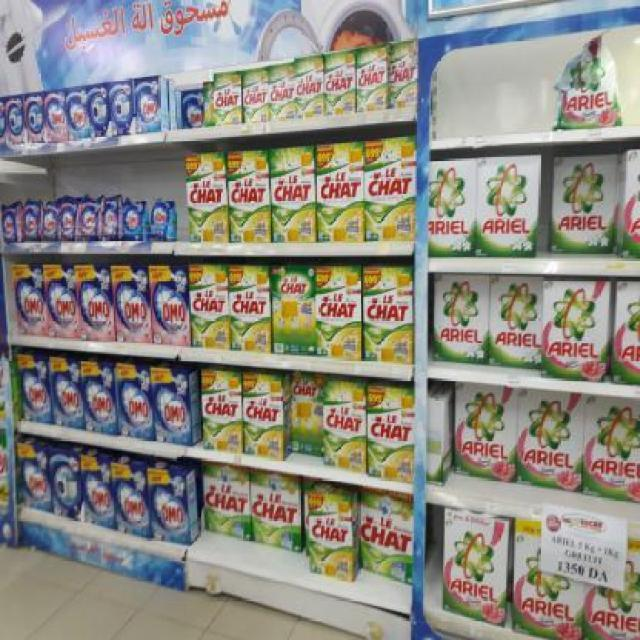Detergent: (511, 513, 587, 636), (542, 267, 610, 383), (441, 512, 512, 623), (552, 154, 618, 254), (516, 391, 579, 495), (475, 151, 538, 254), (456, 376, 516, 479), (581, 393, 640, 497), (558, 38, 620, 127), (585, 537, 639, 639), (429, 157, 477, 259), (489, 277, 541, 369), (435, 272, 487, 363)
